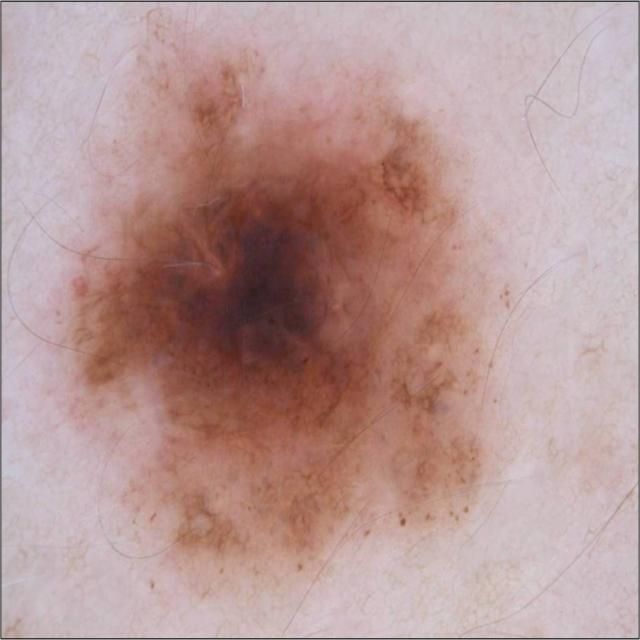Benign: (71, 32, 509, 609)
